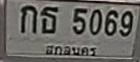0: (89, 8, 101, 34)
5: (72, 7, 86, 34)
6: (104, 9, 117, 35)
9: (119, 10, 132, 36)
A01: (20, 4, 36, 32)
A24: (40, 6, 58, 33)
SNK: (43, 42, 100, 58)
